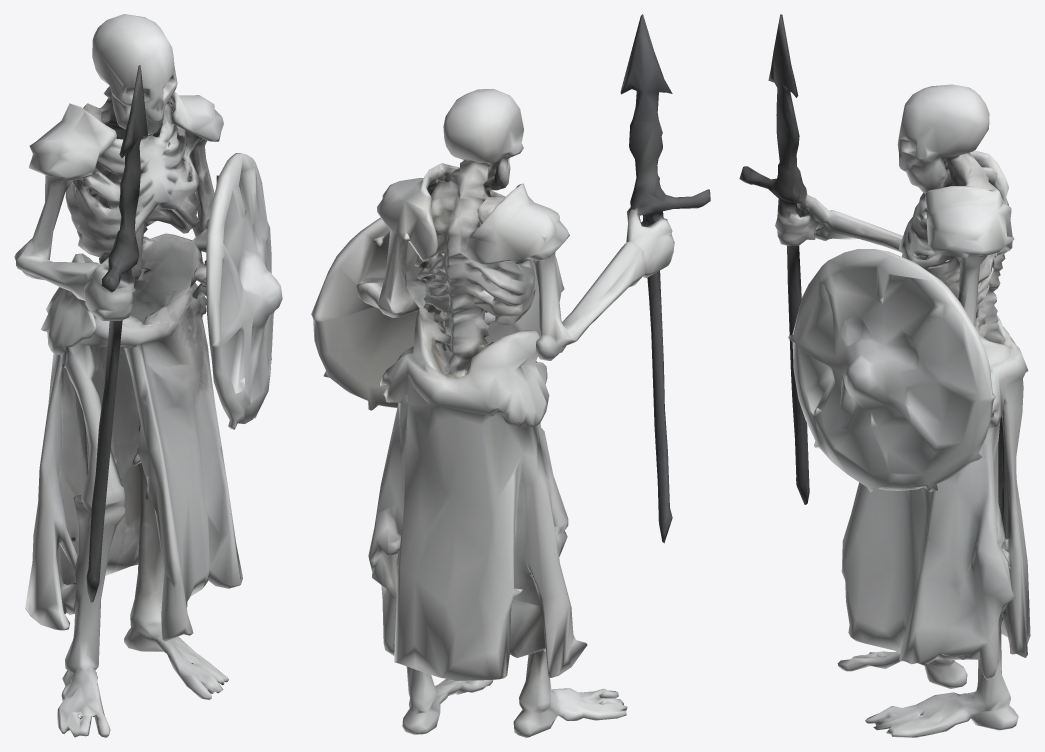
File: Pawn.fbx
3 renders of one model, left to right at view 1: azimuth 30°, elevation 25°; view 2: azimuth 150°, elevation 25°; view 3: azimuth 270°, elevation 25°, orthographic. The views are drawn at different scales.
Parts seen in each view (by area): view 1: Mesh_0; view 2: Mesh_0; view 3: Mesh_0.
Part boxes in pixels (x1,y1,x2,y2): Mesh_0: [14, 14, 282, 737]; Mesh_0: [311, 14, 710, 737]; Mesh_0: [739, 14, 1030, 737].
Size of the model in its own units: 87.67 by 200 by 80.22.
1 material, 1 textured.
